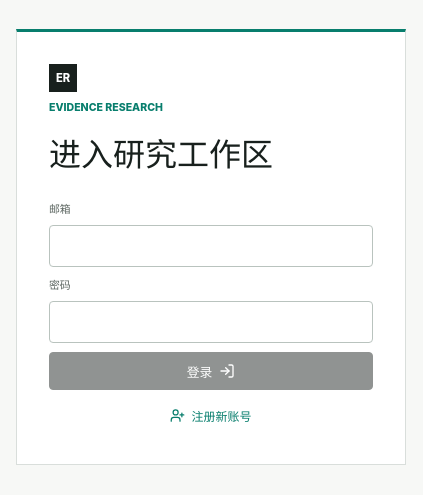
Test: shows local registration when the API enables it
This screenshot has width=423, height=495.
Check: the heading "进入研究工作区" is shown, box [49, 137, 273, 173]
Click the button "注册新账号" at (211, 416), box [49, 399, 373, 432]
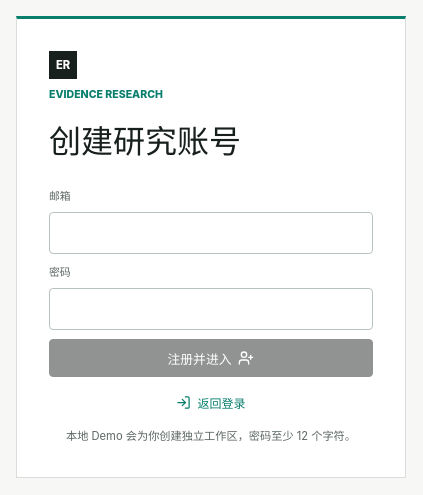
Check: the heading "创建研究账号" is shown, box [49, 124, 241, 160]
